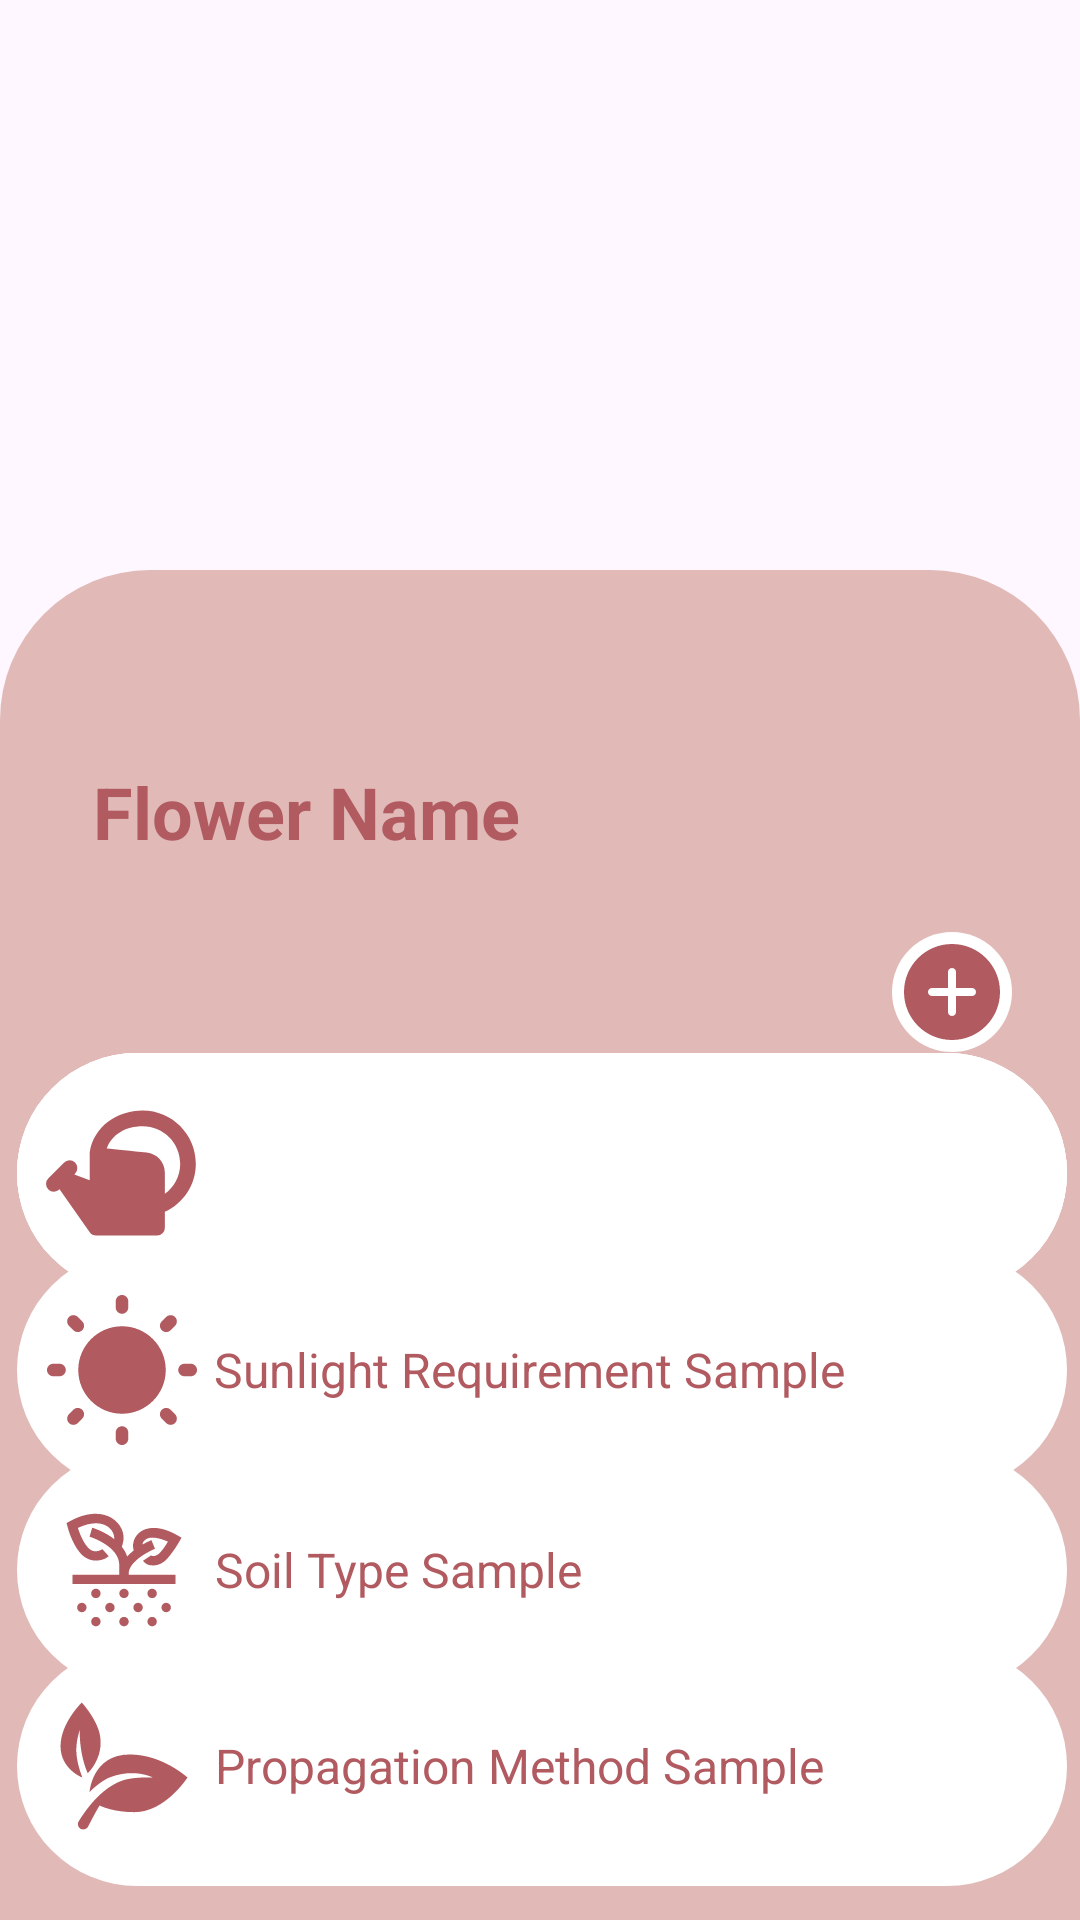

Locate icon controls on the screen. Image size 1080x1920, boxes as (x1, y1, x2, y2).
add: (892, 932, 1012, 1052)
watering: (46, 1110, 196, 1236)
